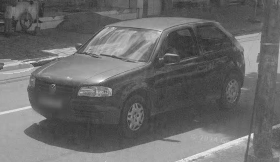car: (26, 16, 246, 138)
